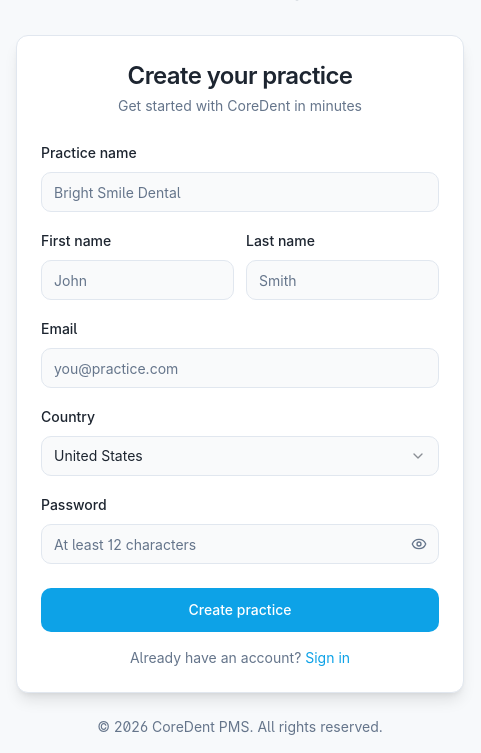
Test: Register Page › shows validation errors for empty submit
The width and height of the screenshot is (481, 753).
(page scrolled)
Click the button "Create practice" at (240, 610), box top-left (41, 588), bottom-right (439, 632)
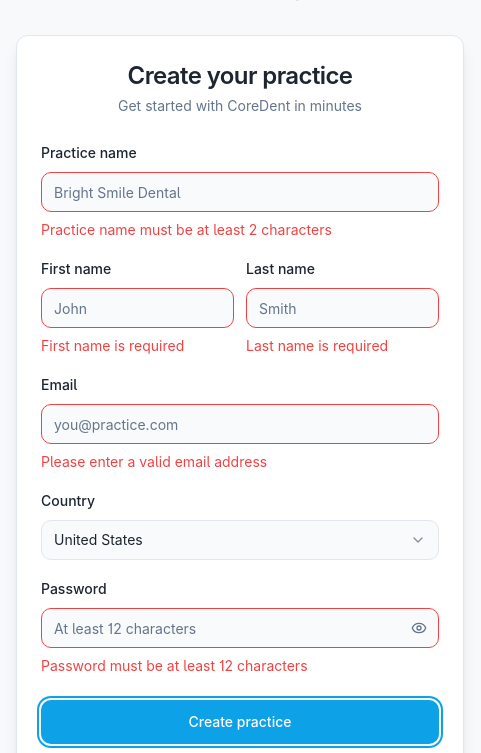
Expected: the text "Practice name must be at least 2 characters" is shown, top-left (41, 221), bottom-right (332, 238)
Expected: the text "First name is required" is shown, top-left (41, 337), bottom-right (184, 354)
Expected: the text "Last name is required" is shown, top-left (246, 337), bottom-right (388, 354)
